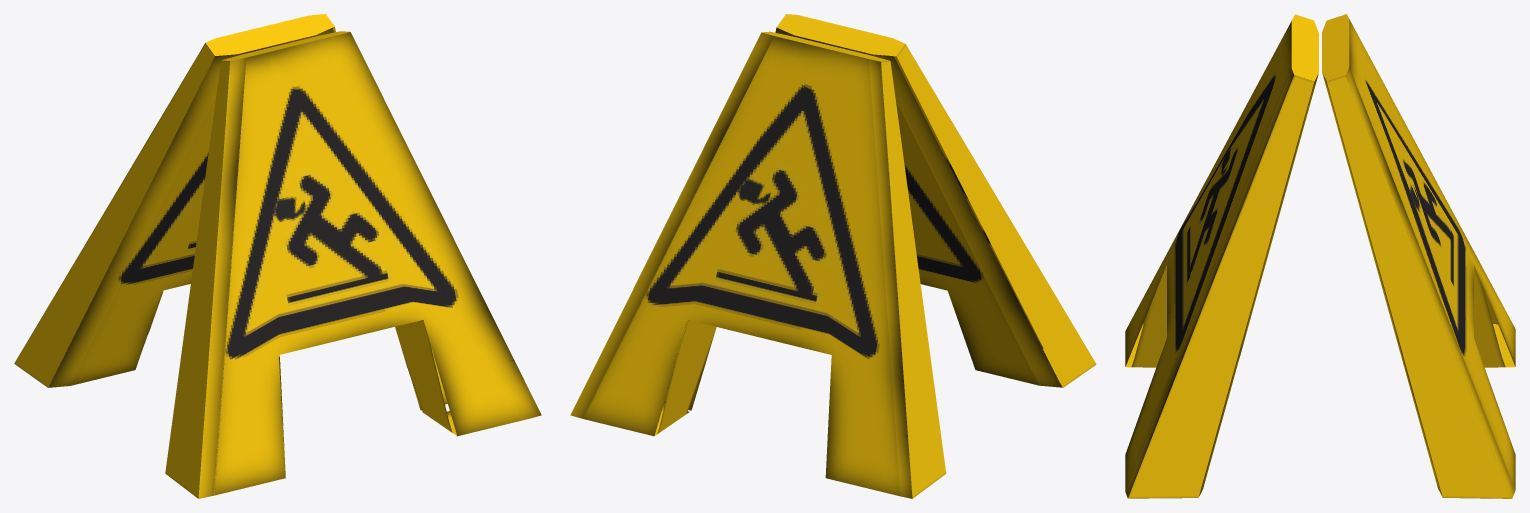
The model's file is wetfloorsign.fbx.
3 renders of one model, left to right at view 1: azimuth 30°, elevation 25°; view 2: azimuth 150°, elevation 25°; view 3: azimuth 270°, elevation 25°, orthographic. The views are drawn at different scales.
Parts seen in each view (by area): view 1: Cube.001; view 2: Cube.001; view 3: Cube.001.
Boxes of the visible parts, x1,y1,x2,y2 form: Cube.001: (14, 14, 541, 498); Cube.001: (570, 14, 1096, 498); Cube.001: (1125, 14, 1515, 498).
Size of the model in its own units: 100 by 98.59 by 94.53.
4 materials, 4 textured.
